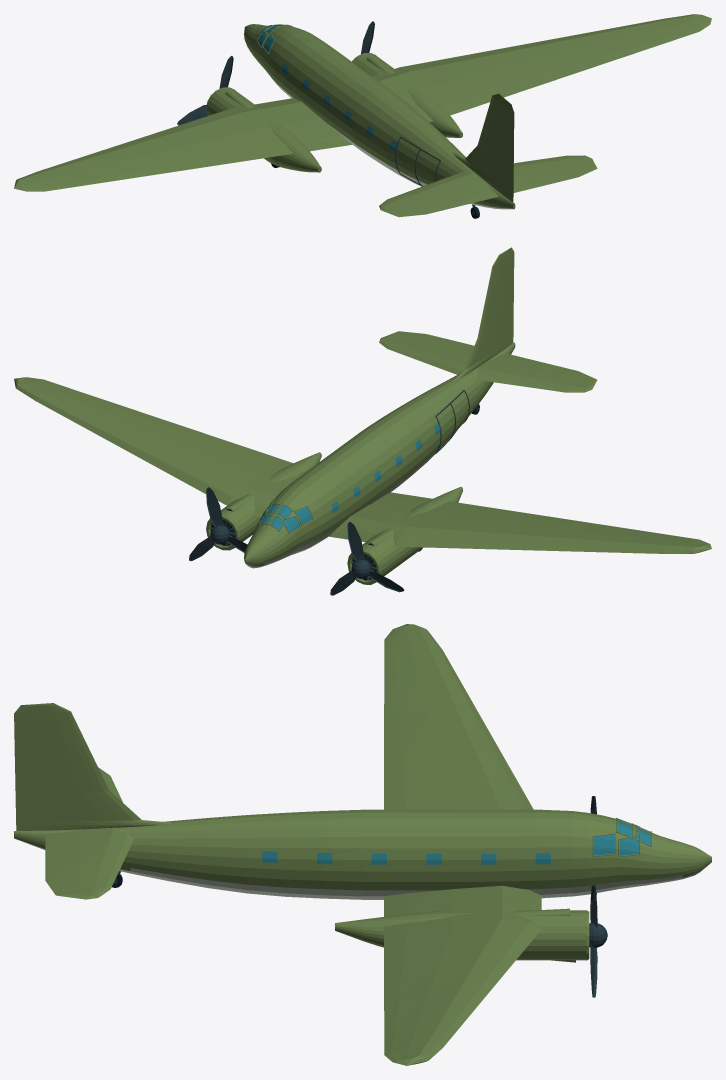
The model's file is archive-c47a.glb.
The picture shows the model from 3 angles, top to bottom: view 1: azimuth 30°, elevation 25°; view 2: azimuth 150°, elevation 25°; view 3: azimuth 270°, elevation 25°; orthographic projection. The views are drawn at different scales.
Parts seen in each view (by area): view 1: archive-c47a-fuselage.003-geometry, archive-c47a-transport_main_wing.005-geometry, archive-c47a-transport_main_wing.008-geometry, archive-c47a-transport_fin.002-geometry, archive-c47a-transport_tailplane.003-geometry, archive-c47a-radial_engine_0.003-geometry, archive-c47a-transport_tailplane.006-geometry, archive-c47a-radial_engine_1.003-geometry, archive-c47a-transport_glazing.003-geometry, archive-c47a-transport_propeller_0.003-geometry; view 2: archive-c47a-fuselage.003-geometry, archive-c47a-transport_main_wing.005-geometry, archive-c47a-transport_main_wing.008-geometry, archive-c47a-transport_fin.002-geometry, archive-c47a-transport_tailplane.003-geometry, archive-c47a-transport_tailplane.006-geometry, archive-c47a-radial_engine_0.003-geometry, archive-c47a-radial_engine_1.003-geometry, archive-c47a-transport_glazing.003-geometry, archive-c47a-transport_propeller_0.003-geometry, archive-c47a-transport_propeller_1.003-geometry; view 3: archive-c47a-fuselage.003-geometry, archive-c47a-transport_main_wing.008-geometry, archive-c47a-transport_main_wing.005-geometry, archive-c47a-transport_fin.002-geometry, archive-c47a-transport_tailplane.006-geometry, archive-c47a-radial_engine_1.003-geometry, archive-c47a-transport_glazing.003-geometry, archive-c47a-transport_propeller_1.003-geometry.
Part boxes in pixels (left/top/right/bottom): archive-c47a-fuselage.003-geometry: left=244, top=24, right=515, bottom=209; archive-c47a-transport_main_wing.005-geometry: left=14, top=98, right=352, bottom=191; archive-c47a-transport_main_wing.008-geometry: left=372, top=14, right=711, bottom=122; archive-c47a-transport_fin.002-geometry: left=453, top=93, right=514, bottom=202; archive-c47a-transport_tailplane.003-geometry: left=379, top=171, right=498, bottom=217; archive-c47a-radial_engine_0.003-geometry: left=206, top=87, right=321, bottom=172; archive-c47a-transport_tailplane.006-geometry: left=513, top=155, right=597, bottom=192; archive-c47a-radial_engine_1.003-geometry: left=352, top=53, right=462, bottom=137; archive-c47a-transport_glazing.003-geometry: left=257, top=24, right=397, bottom=151; archive-c47a-transport_propeller_0.003-geometry: left=177, top=56, right=233, bottom=125; archive-c47a-fuselage.003-geometry: left=244, top=342, right=515, bottom=568; archive-c47a-transport_main_wing.005-geometry: left=329, top=492, right=711, bottom=553; archive-c47a-transport_main_wing.008-geometry: left=14, top=377, right=309, bottom=517; archive-c47a-transport_fin.002-geometry: left=453, top=247, right=514, bottom=380; archive-c47a-transport_tailplane.003-geometry: left=477, top=353, right=597, bottom=392; archive-c47a-transport_tailplane.006-geometry: left=379, top=331, right=474, bottom=374; archive-c47a-radial_engine_0.003-geometry: left=347, top=487, right=462, bottom=584; archive-c47a-radial_engine_1.003-geometry: left=206, top=452, right=321, bottom=550; archive-c47a-transport_glazing.003-geometry: left=256, top=423, right=440, bottom=533; archive-c47a-transport_propeller_0.003-geometry: left=330, top=522, right=404, bottom=595; archive-c47a-transport_propeller_1.003-geometry: left=189, top=487, right=247, bottom=561; archive-c47a-fuselage.003-geometry: left=14, top=809, right=711, bottom=899; archive-c47a-transport_main_wing.008-geometry: left=384, top=885, right=541, bottom=1065; archive-c47a-transport_main_wing.005-geometry: left=384, top=624, right=533, bottom=809; archive-c47a-transport_fin.002-geometry: left=14, top=703, right=172, bottom=830; archive-c47a-transport_tailplane.006-geometry: left=45, top=827, right=133, bottom=899; archive-c47a-radial_engine_1.003-geometry: left=335, top=908, right=589, bottom=962; archive-c47a-transport_glazing.003-geometry: left=262, top=818, right=651, bottom=864; archive-c47a-transport_propeller_1.003-geometry: left=589, top=885, right=607, bottom=997.
Bounding box in the file's own units: 8.99 × 2.19 × 6.
